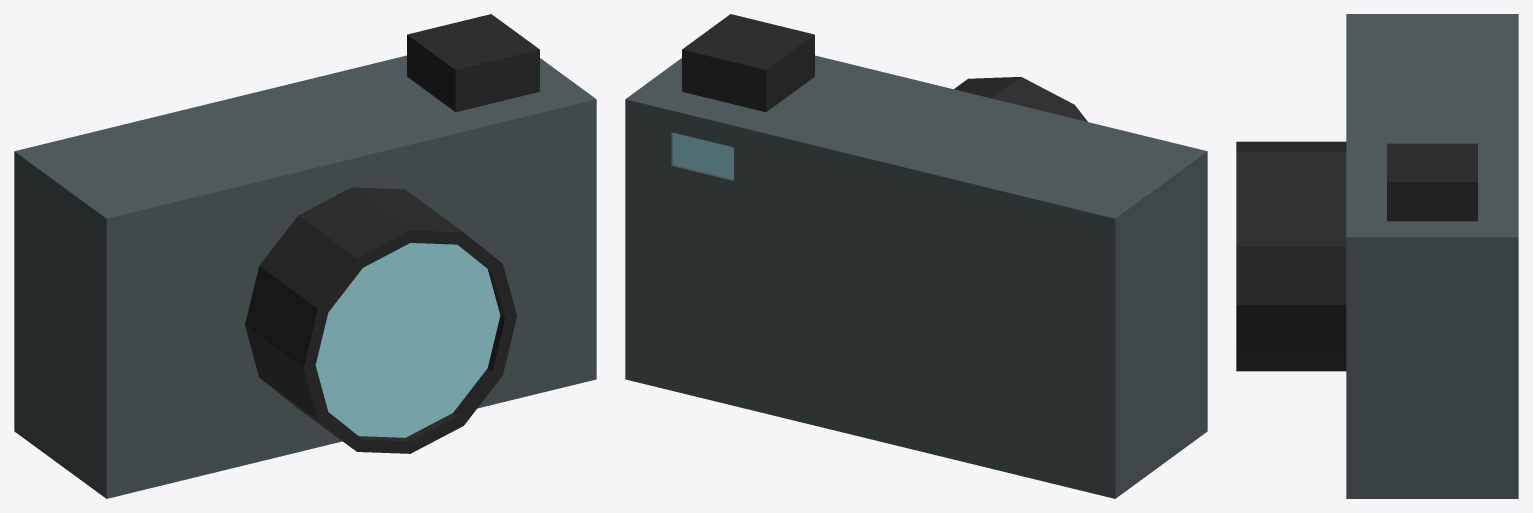
The model's file is Camera.fbx.
The picture shows the model from 3 angles, left to right: view 1: azimuth 30°, elevation 25°; view 2: azimuth 150°, elevation 25°; view 3: azimuth 270°, elevation 25°; orthographic projection. The views are drawn at different scales.
Parts seen in each view (by area): view 1: Cylinder; view 2: Cylinder; view 3: Cylinder.
Boxes of the visible parts, x1,y1,x2,y2 form: Cylinder: (14, 14, 596, 498); Cylinder: (625, 14, 1207, 498); Cylinder: (1236, 14, 1518, 498).
Bounding box in the file's own units: 366 × 230 × 196.
